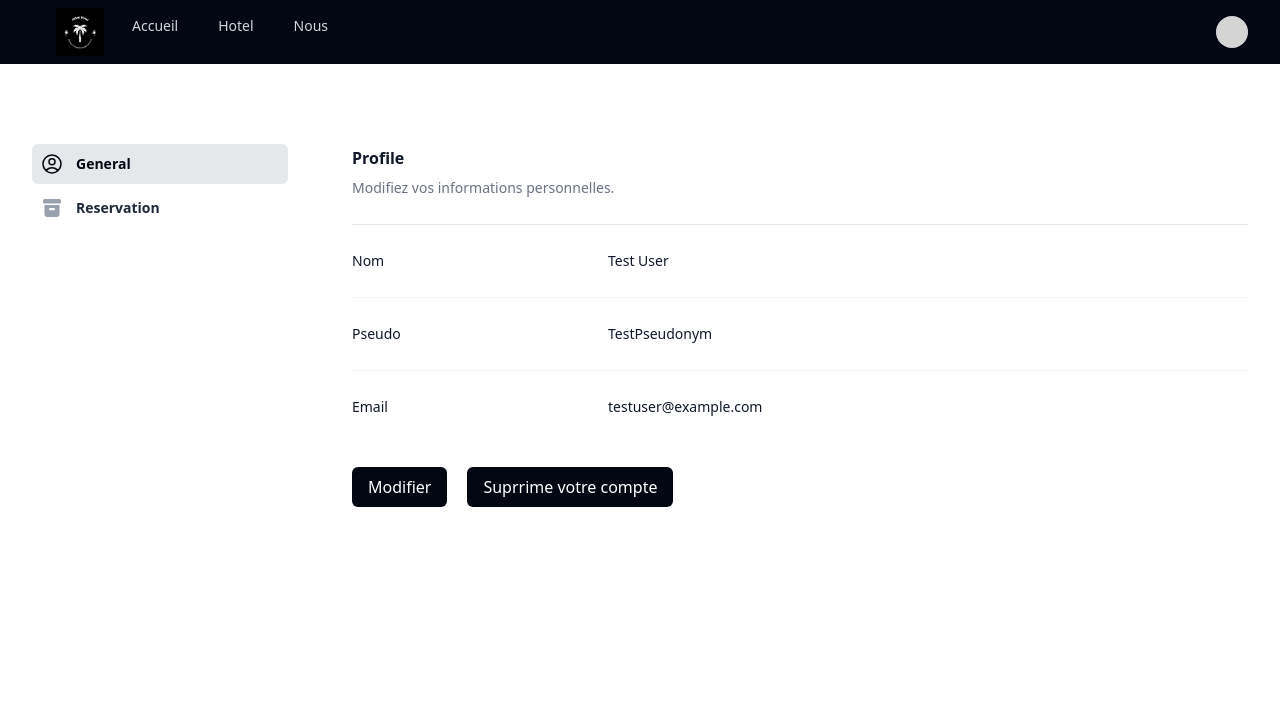
Réservations utilisateur › Affiche correctement les réservations utilisateur
This screenshot has width=1280, height=706.
Step 1. Click the link "Reservation" → (100, 208), box x1=40 y1=196 x2=160 y2=220
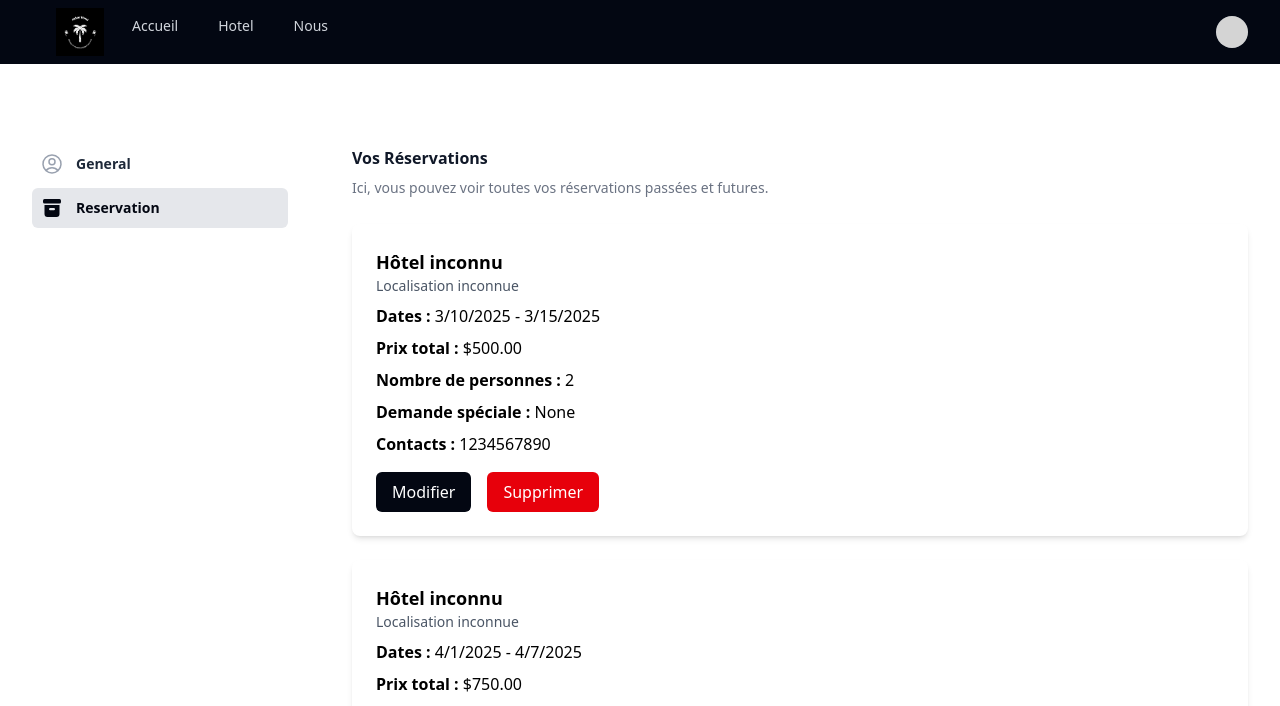
expect the heading "Vos Réservations" is shown: met, box x1=352 y1=147 x2=488 y2=169
expect the text "500" is shown: met, box x1=472 y1=337 x2=522 y2=359
expect the text "123456789" is shown: met, box x1=459 y1=433 x2=551 y2=455
